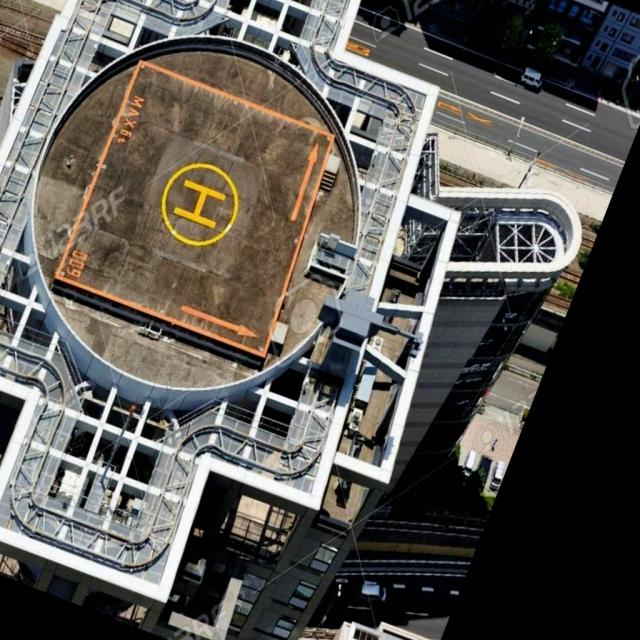helipad: (158, 160, 240, 248)
